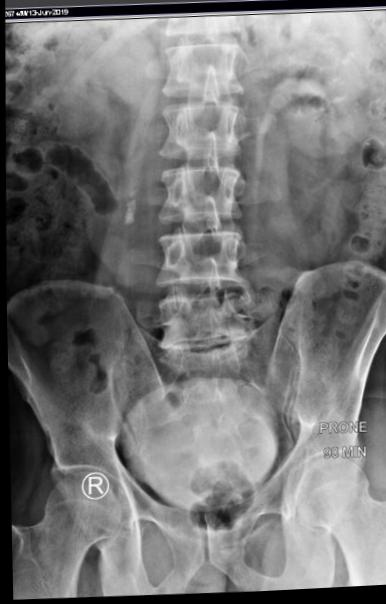bladder: (115, 373, 286, 521)
vertebrae: (159, 42, 247, 103)
